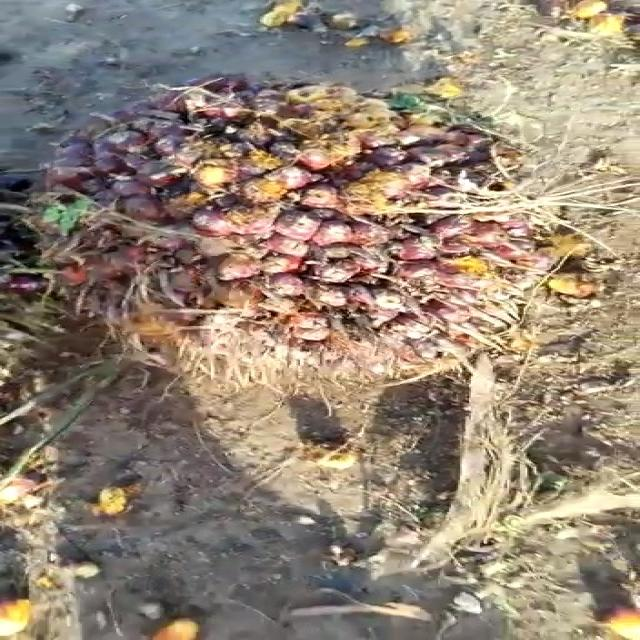palm oil: (0, 60, 570, 387)
